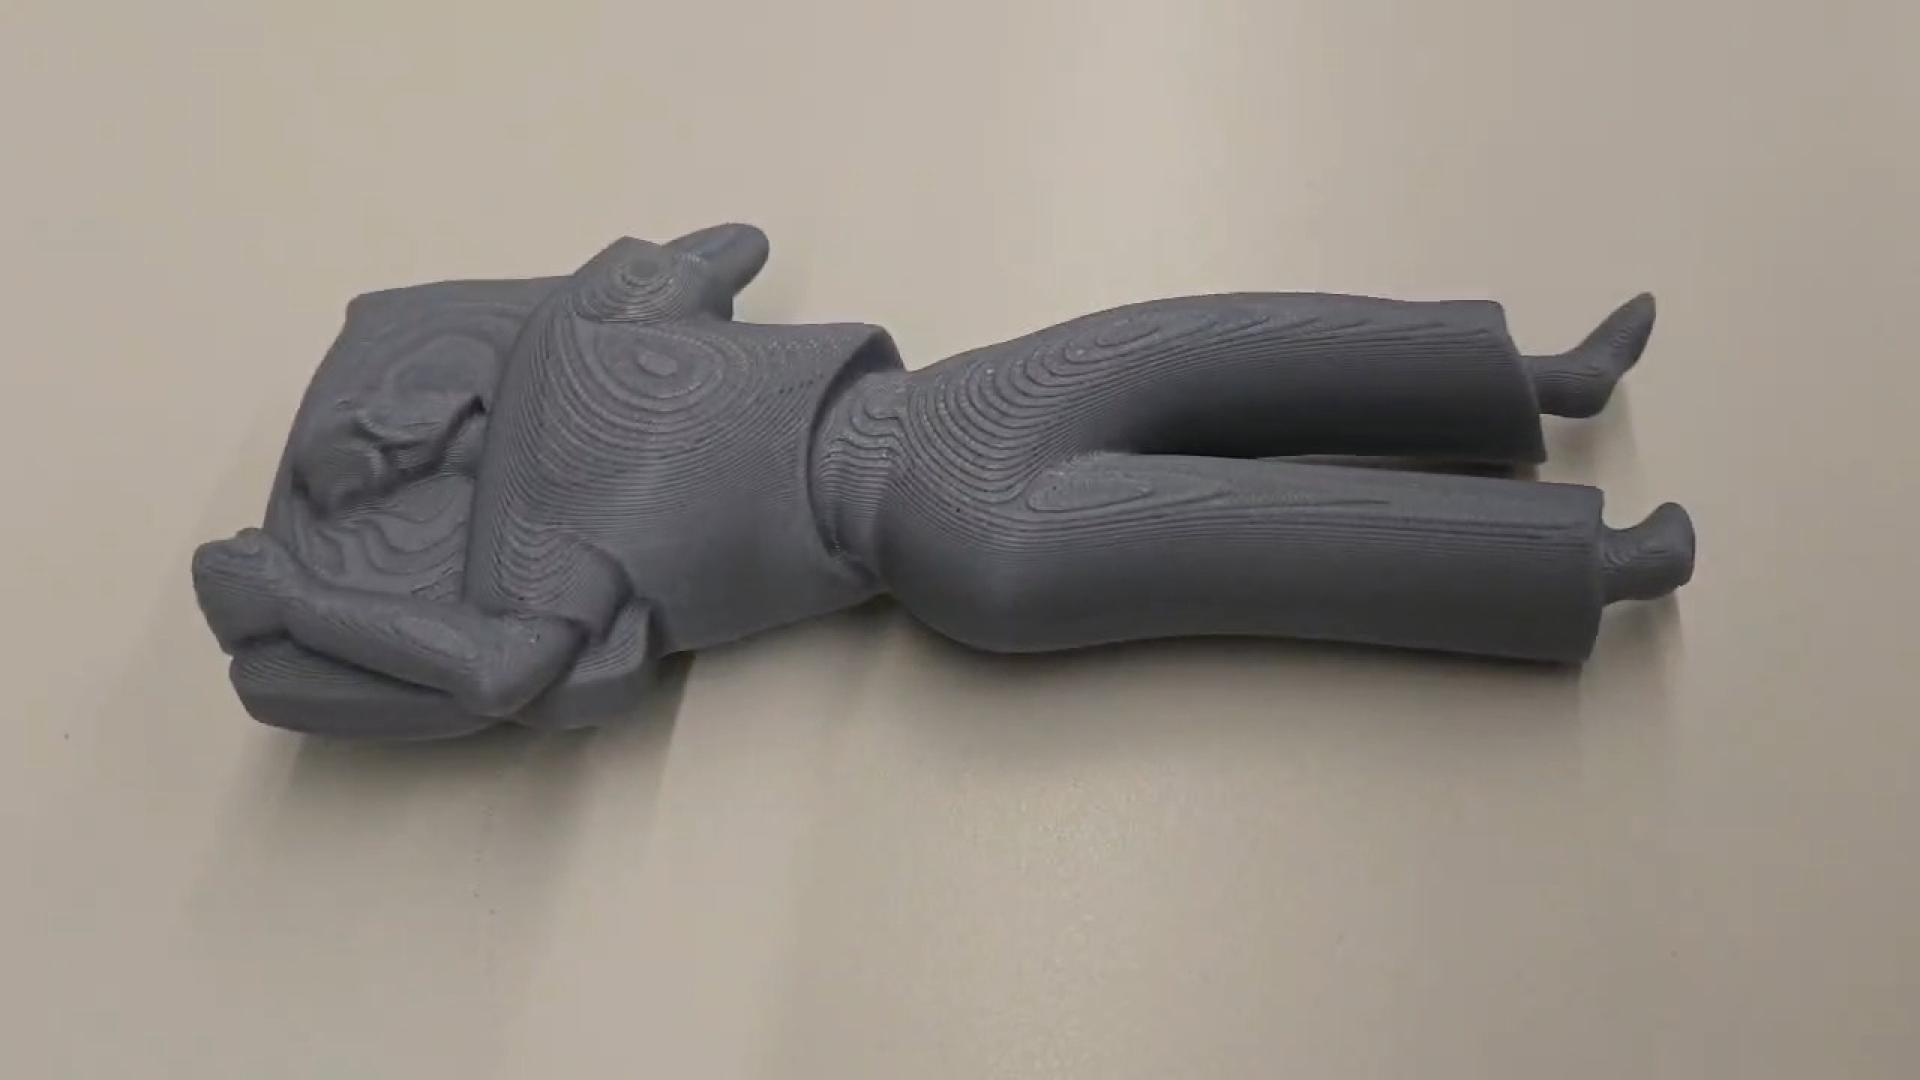Bad-style: (189, 212, 1706, 760)
